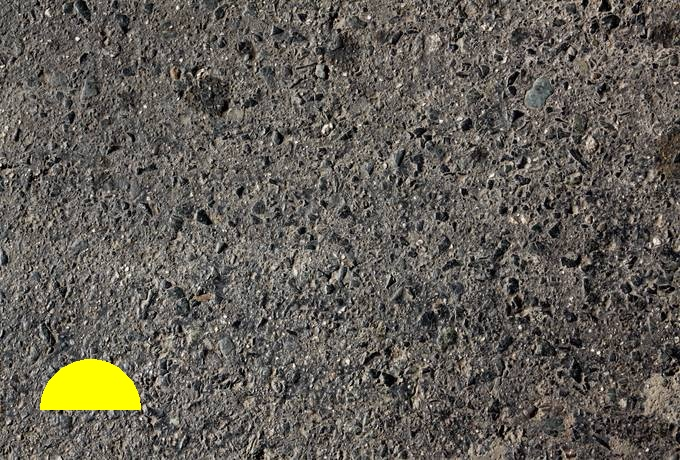yellow_semicircle: (40, 359, 140, 409)
